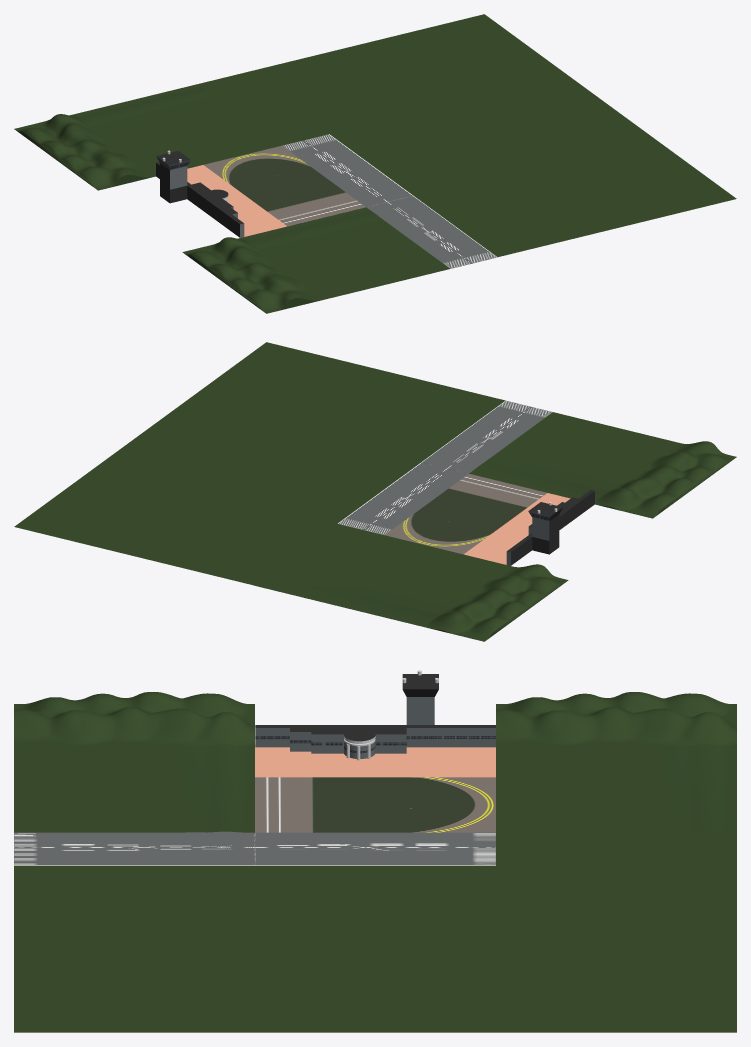
File: Airport Background - Version 2.fbx
The picture shows the model from 3 angles, top to bottom: view 1: azimuth 30°, elevation 25°; view 2: azimuth 150°, elevation 25°; view 3: azimuth 270°, elevation 25°; orthographic projection. The views are drawn at different scales.
Parts seen in each view (by area): view 1: Front Grass, Grass Left, Grass Right, TaxiWay, Buildings; view 2: Front Grass, Grass Right, Grass Left, TaxiWay, Buildings; view 3: Front Grass, Grass Left, Grass Right, TaxiWay, Buildings, Cylinder.003.
Boxes of the visible parts, x1,y1,x2,y2 form: Front Grass: [245, 14, 736, 256]; Grass Left: [182, 196, 497, 313]; Grass Right: [14, 72, 328, 190]; TaxiWay: [187, 134, 413, 236]; Buildings: [156, 150, 244, 237]; Front Grass: [14, 342, 505, 584]; Grass Right: [253, 524, 568, 641]; Grass Left: [422, 400, 736, 518]; TaxiWay: [337, 462, 570, 564]; Buildings: [506, 490, 594, 565]; Front Grass: [14, 865, 736, 1032]; Grass Left: [14, 692, 254, 865]; Grass Right: [496, 692, 736, 865]; TaxiWay: [255, 745, 495, 865]; Buildings: [255, 674, 495, 753]; Cylinder.003: [344, 734, 375, 758].
Bounding box in the file's own units: 44680 × 3833 × 41531.
14 materials, 8 textured.
